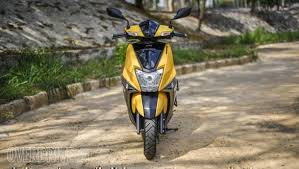bike: (99, 3, 196, 162)
